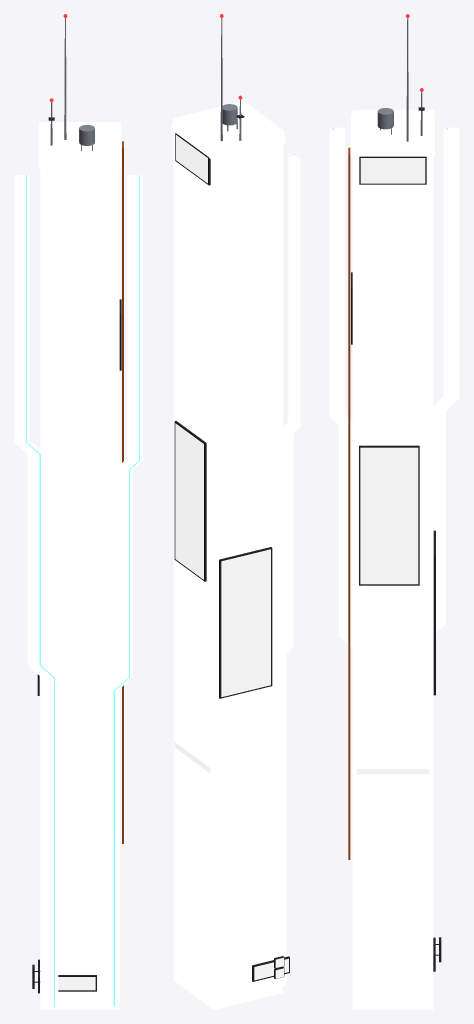
File: k_tower_e.glb
The picture shows the model from 3 angles, left to right: view 1: azimuth 90°, elevation 25°; view 2: azimuth 210°, elevation 25°; view 3: azimuth 270°, elevation 25°; orthographic projection.
Parts seen in each view (by area): view 1: kit_dark, kit_grey, neon_cyan, steel_orange, metal_light, metal_dark, screen_atlas, kit_mid; view 2: kit_dark, screen_atlas, kit_grey, metal_dark, kit_mid, metal_light; view 3: kit_dark, kit_grey, screen_atlas, steel_orange, metal_dark, metal_light, kit_mid.
Part boxes in pixels (x1,y1,x2,y2): kit_dark: (40,130,119,1009); kit_grey: (14,122,142,1005); neon_cyan: (26,175,139,1005); steel_orange: (122,141,123,843); metal_light: (50,18,94,145); metal_dark: (32,117,121,993); screen_atlas: (58,977,95,990); kit_mid: (59,122,114,155); kit_dark: (173,109,283,1009); screen_atlas: (174,135,288,980); kit_grey: (171,101,300,985); metal_dark: (174,114,289,981); kit_mid: (192,108,264,136); metal_light: (220,18,241,141); kit_dark: (352,118,433,1009); kit_grey: (329,109,459,648); screen_atlas: (356,158,429,774); steel_orange: (348,147,350,859); metal_dark: (351,107,441,971); metal_light: (377,18,422,141); kit_mid: (357,112,414,143).
Bounding box in the file's own units: 13.27 × 161 × 19.3.
